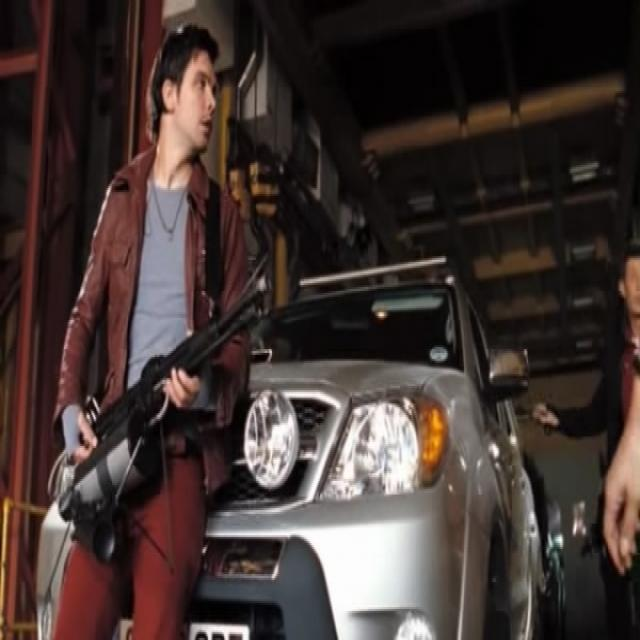rifle: (93, 288, 270, 445)
